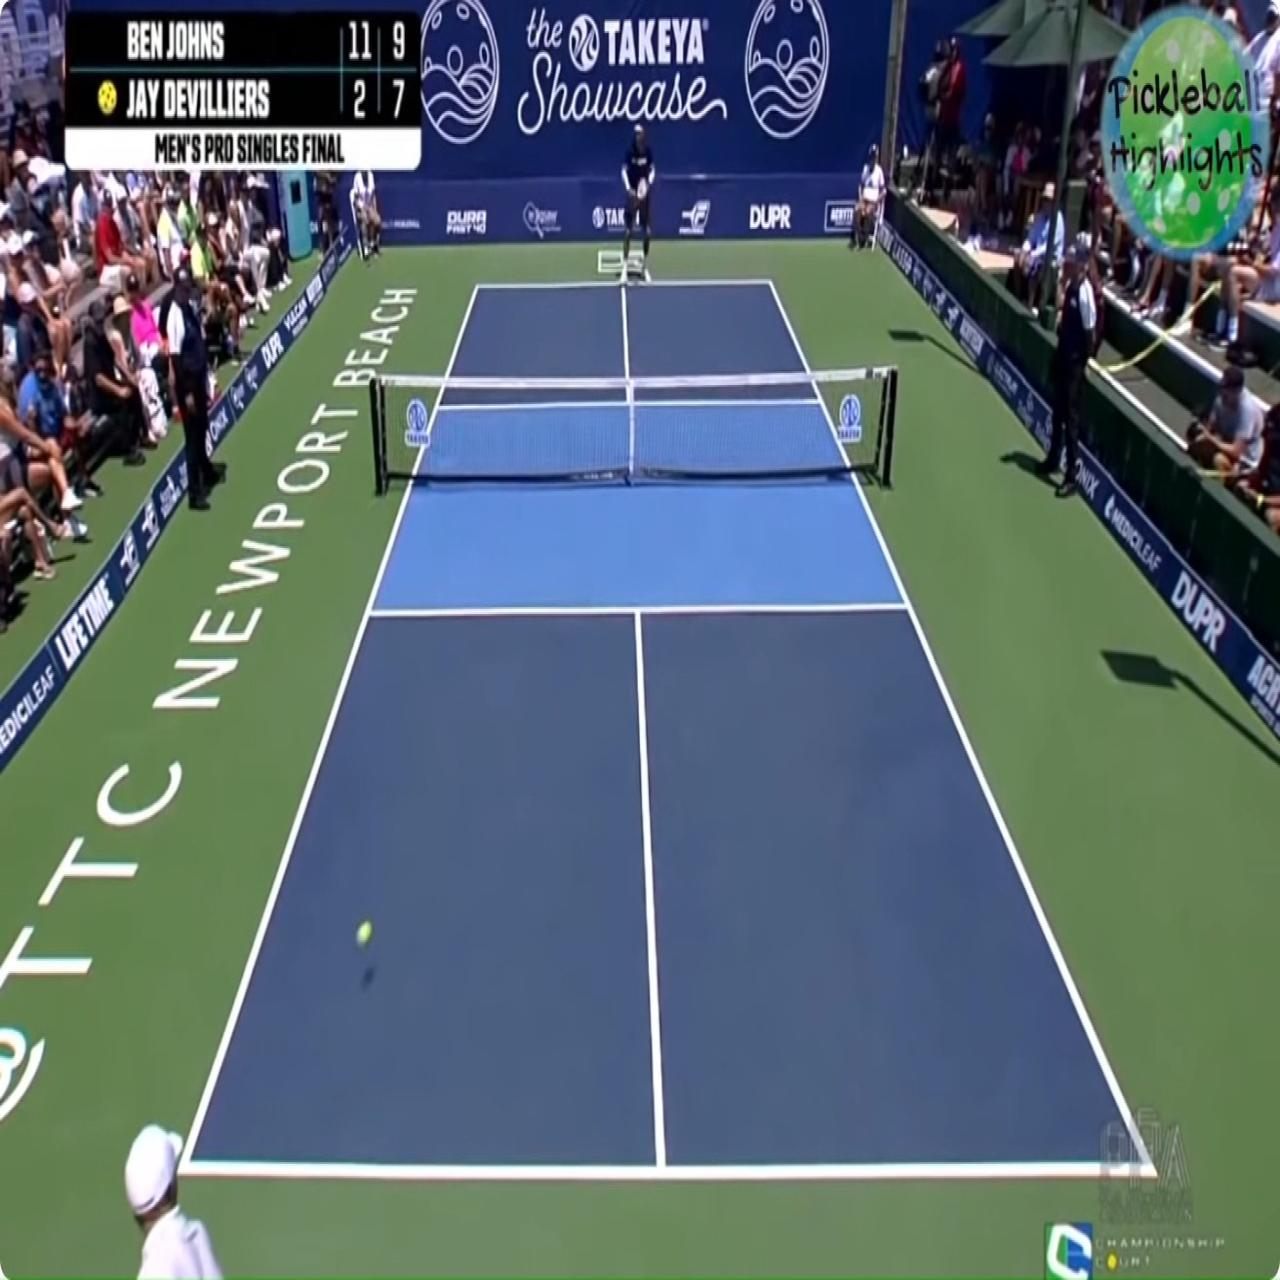pickleball: (356, 919, 373, 947)
